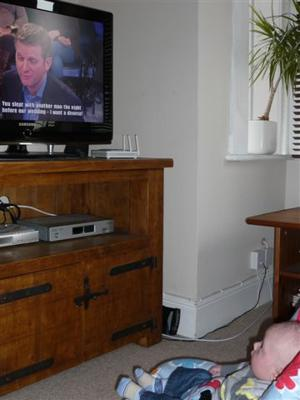person: (118, 319, 299, 400)
